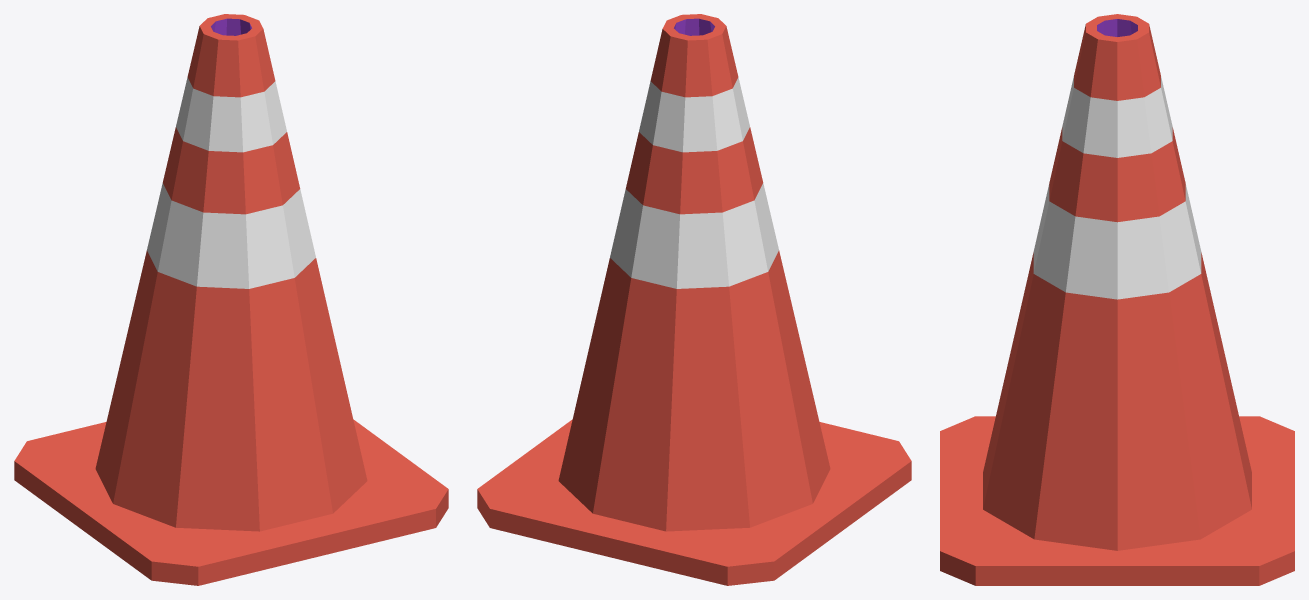
Rendered from trafficCone.fbx.
The picture shows the model from 3 angles, left to right: view 1: azimuth 30°, elevation 25°; view 2: azimuth 150°, elevation 25°; view 3: azimuth 270°, elevation 25°; orthographic projection. The views are drawn at different scales.
Visible parts, largest first — view 1: trafficcone1; view 2: trafficcone1; view 3: trafficcone1.
Part boxes in pixels (box(x1,y1,x2,y2)): trafficcone1: box(14, 14, 448, 585); trafficcone1: box(477, 14, 911, 585); trafficcone1: box(940, 14, 1294, 585).
Size of the model in its own units: 71.13 by 107 by 71.13.
1 material, 1 textured.
